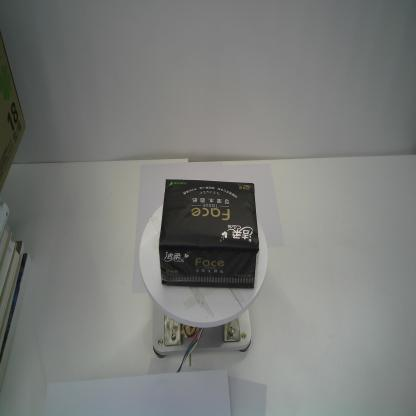Tissue: (158, 178, 259, 289)
